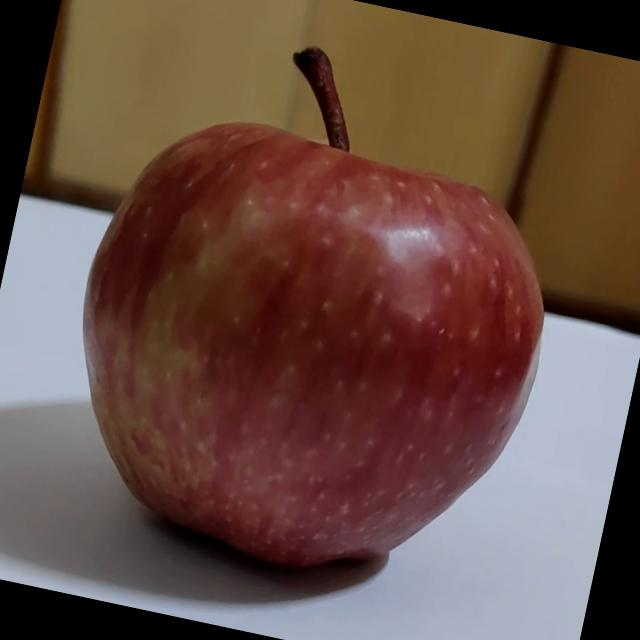apple: (32, 8, 595, 614)
